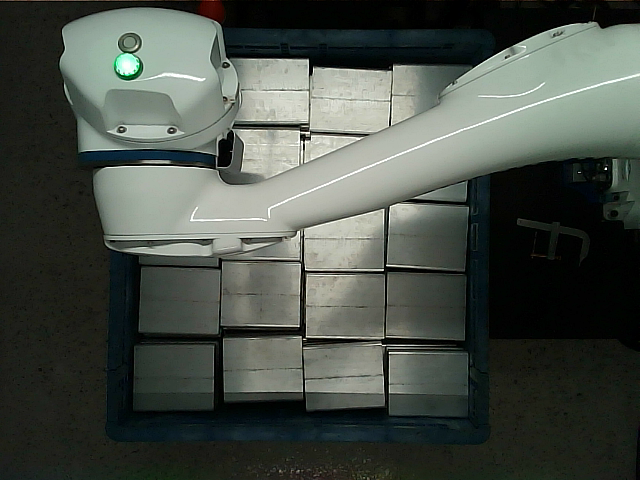green_light: (114, 53, 141, 79)
